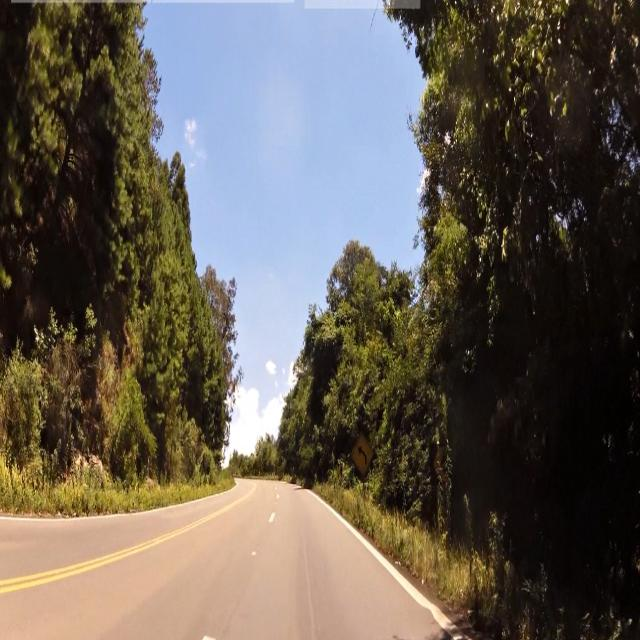A-2a: (351, 435, 374, 478)
Del: (431, 446, 448, 488)
